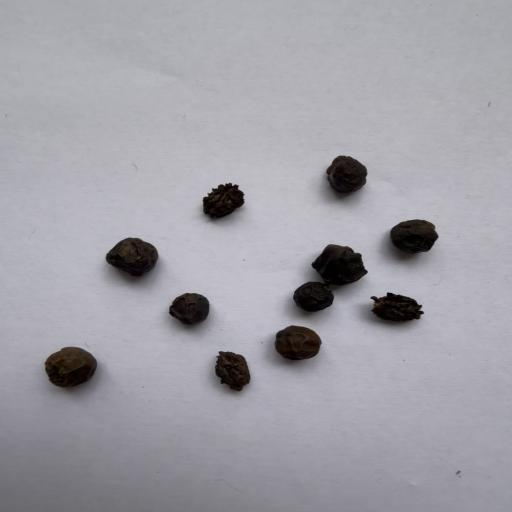Black_pepper: (74, 221, 154, 284), (303, 220, 378, 278), (387, 207, 452, 260), (299, 136, 365, 188), (38, 341, 112, 386), (158, 286, 213, 330), (269, 322, 336, 358), (284, 280, 337, 316)
papaya_seed: (181, 178, 254, 227), (354, 289, 431, 334), (211, 349, 257, 393)
